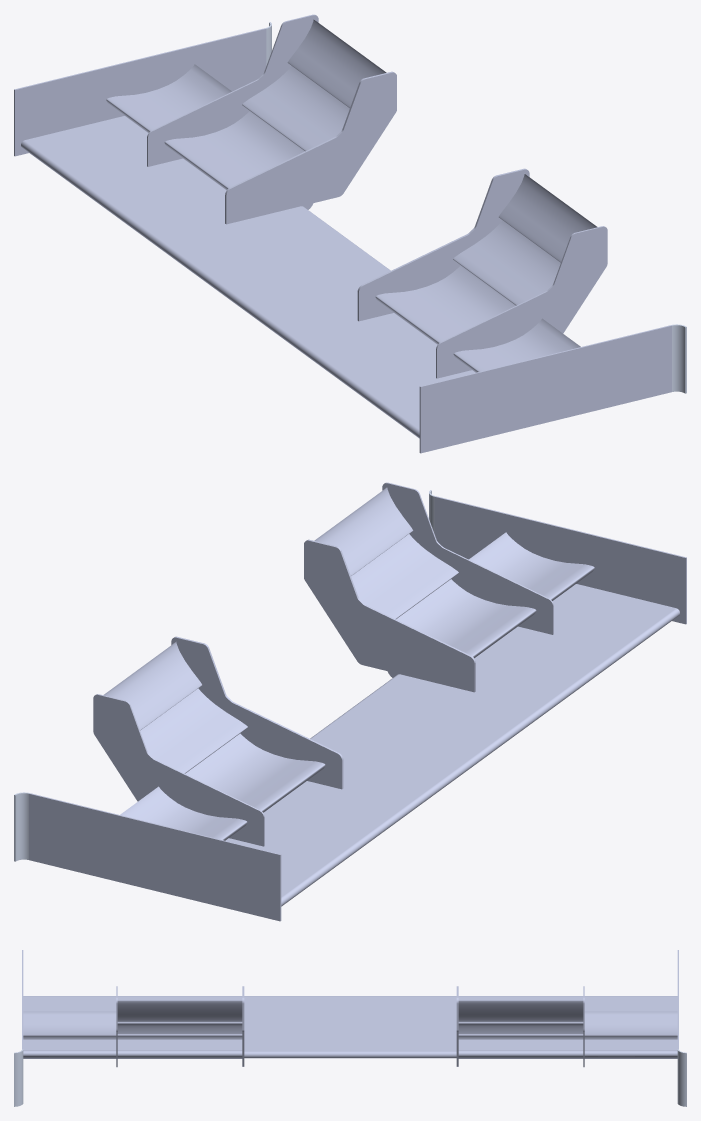
The model's file is flame-5-f.13.glb.
3 renders of one model, top to bottom at view 1: azimuth 30°, elevation 25°; view 2: azimuth 150°, elevation 25°; view 3: azimuth 270°, elevation 25°, orthographic. The views are drawn at different scales.
Visible parts, largest first — view 1: f.13; view 2: f.13; view 3: f.13.
Part boxes in pixels (x1,y1,x2,y2): f.13: [14, 14, 686, 453]; f.13: [14, 482, 686, 921]; f.13: [14, 950, 686, 1106].
Bounding box in the file's own units: 0.5233 × 0.2396 × 1.44.
